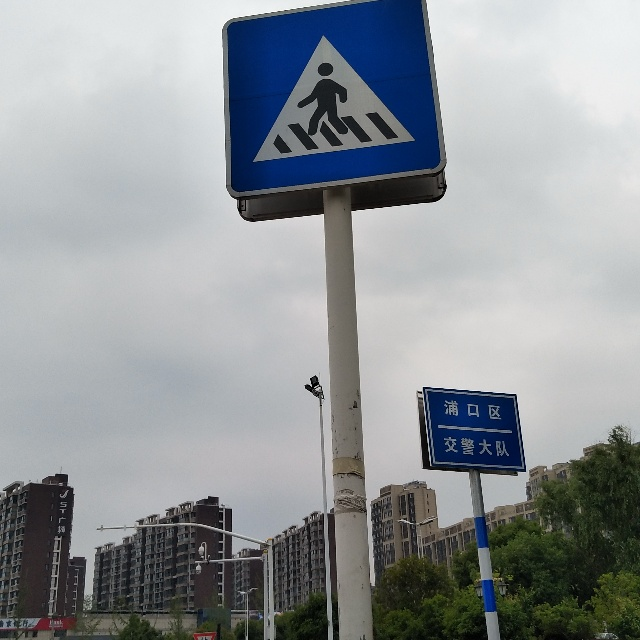crosswalk: (245, 23, 424, 164)
